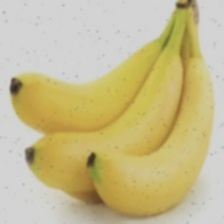banana: (40, 26, 190, 164)
